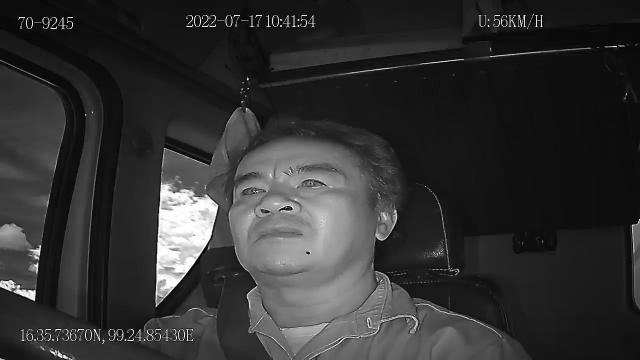SafeDriving: (290, 167, 336, 196), (232, 176, 272, 204)
Seatbelt: (214, 276, 274, 360)
